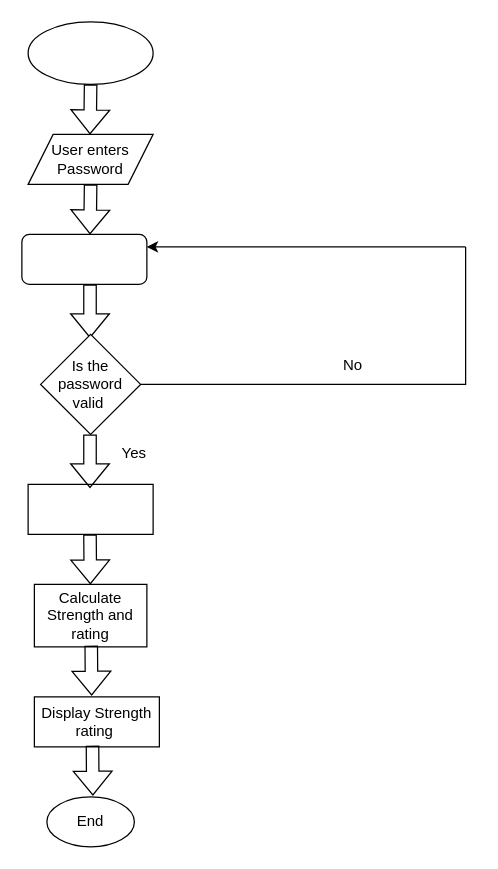
Some shapes in this 498 by 869 pixel diagram are drawn without their labels. Here are the shapes that lost their labels. From the top down, the centre of each, then its label:
At (90,52): "Start".
At (84,258): "Check password validity".
At (90,508): "Analyze password".
